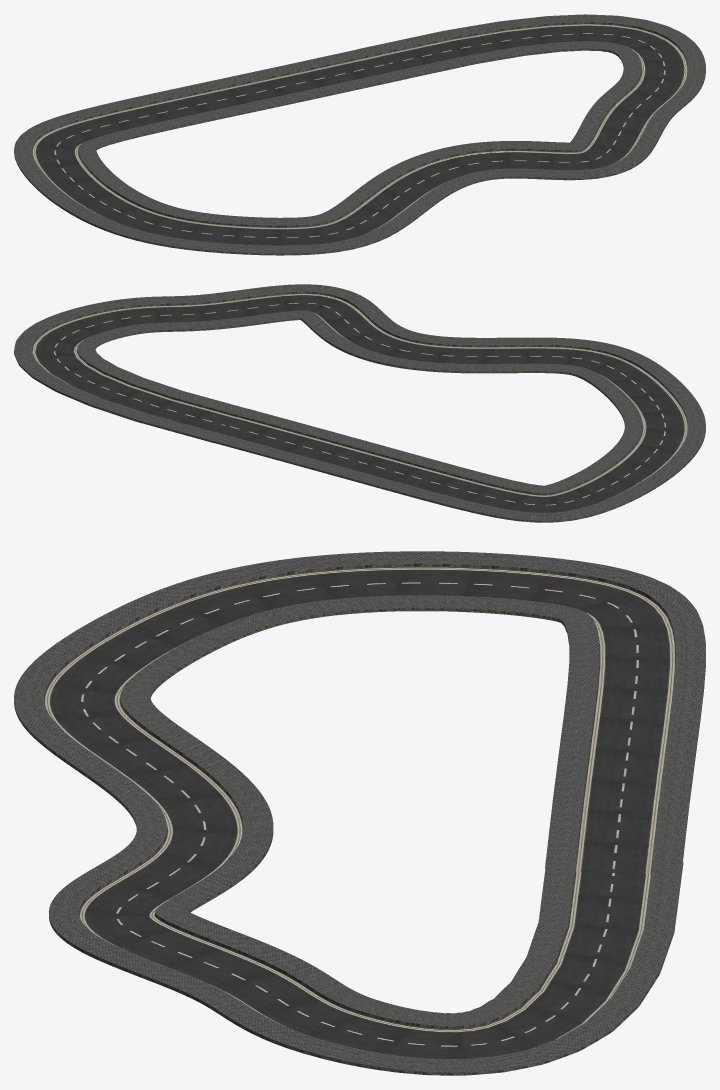
Rendered from road.glb.
3 renders of one model, top to bottom at view 1: azimuth 30°, elevation 25°; view 2: azimuth 150°, elevation 25°; view 3: azimuth 270°, elevation 25°, orthographic. The views are drawn at different scales.
Visible parts, largest first — view 1: Plane; view 2: Plane; view 3: Plane.
Part boxes in pixels (x1,y1,x2,y2): Plane: [14, 14, 705, 255]; Plane: [14, 284, 705, 522]; Plane: [14, 551, 705, 1075].
Bounding box in the file's own units: 130 × 0.5589 × 72.86.
3 materials, 3 textured.
